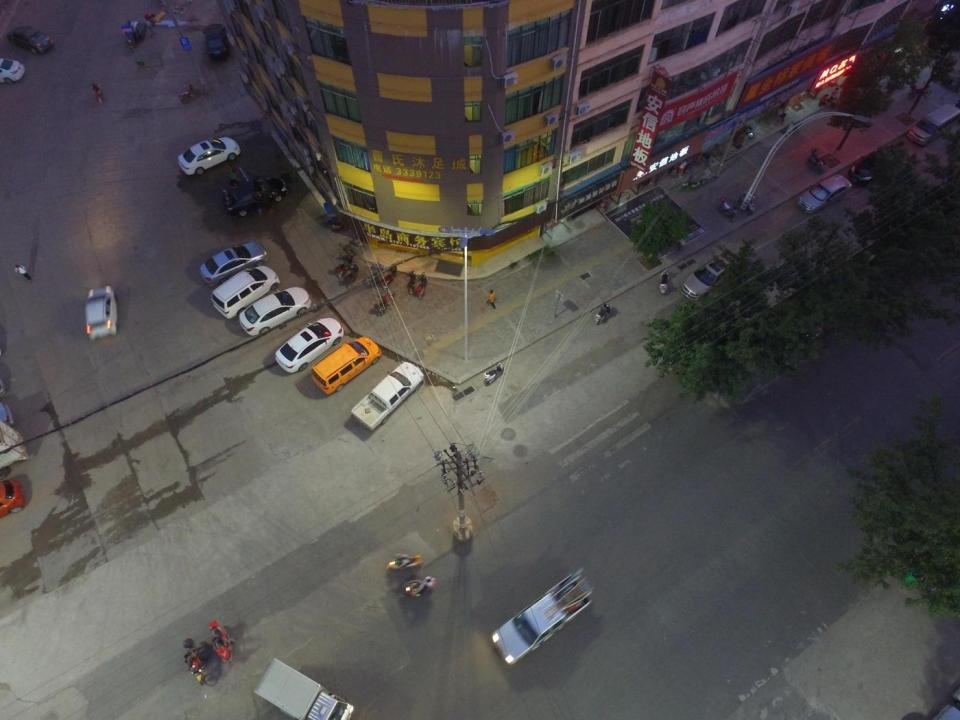car: (274, 317, 344, 374), (211, 265, 280, 319), (238, 286, 312, 336), (222, 169, 290, 217), (199, 241, 270, 286), (680, 252, 741, 300), (177, 136, 241, 176), (796, 173, 853, 214), (850, 142, 902, 184), (85, 285, 117, 340), (7, 26, 54, 54), (202, 23, 230, 60), (0, 57, 25, 84)
truck: (489, 566, 594, 666), (253, 657, 354, 720), (350, 360, 425, 433)
van: (309, 336, 383, 396), (906, 102, 960, 146)
